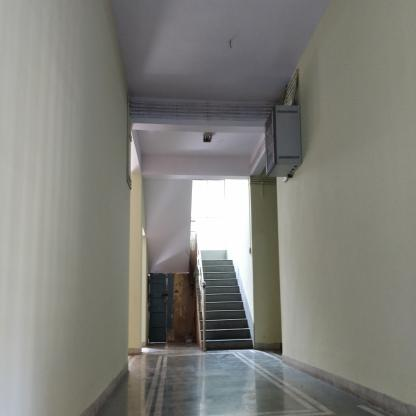stairs: (208, 258, 235, 356)
